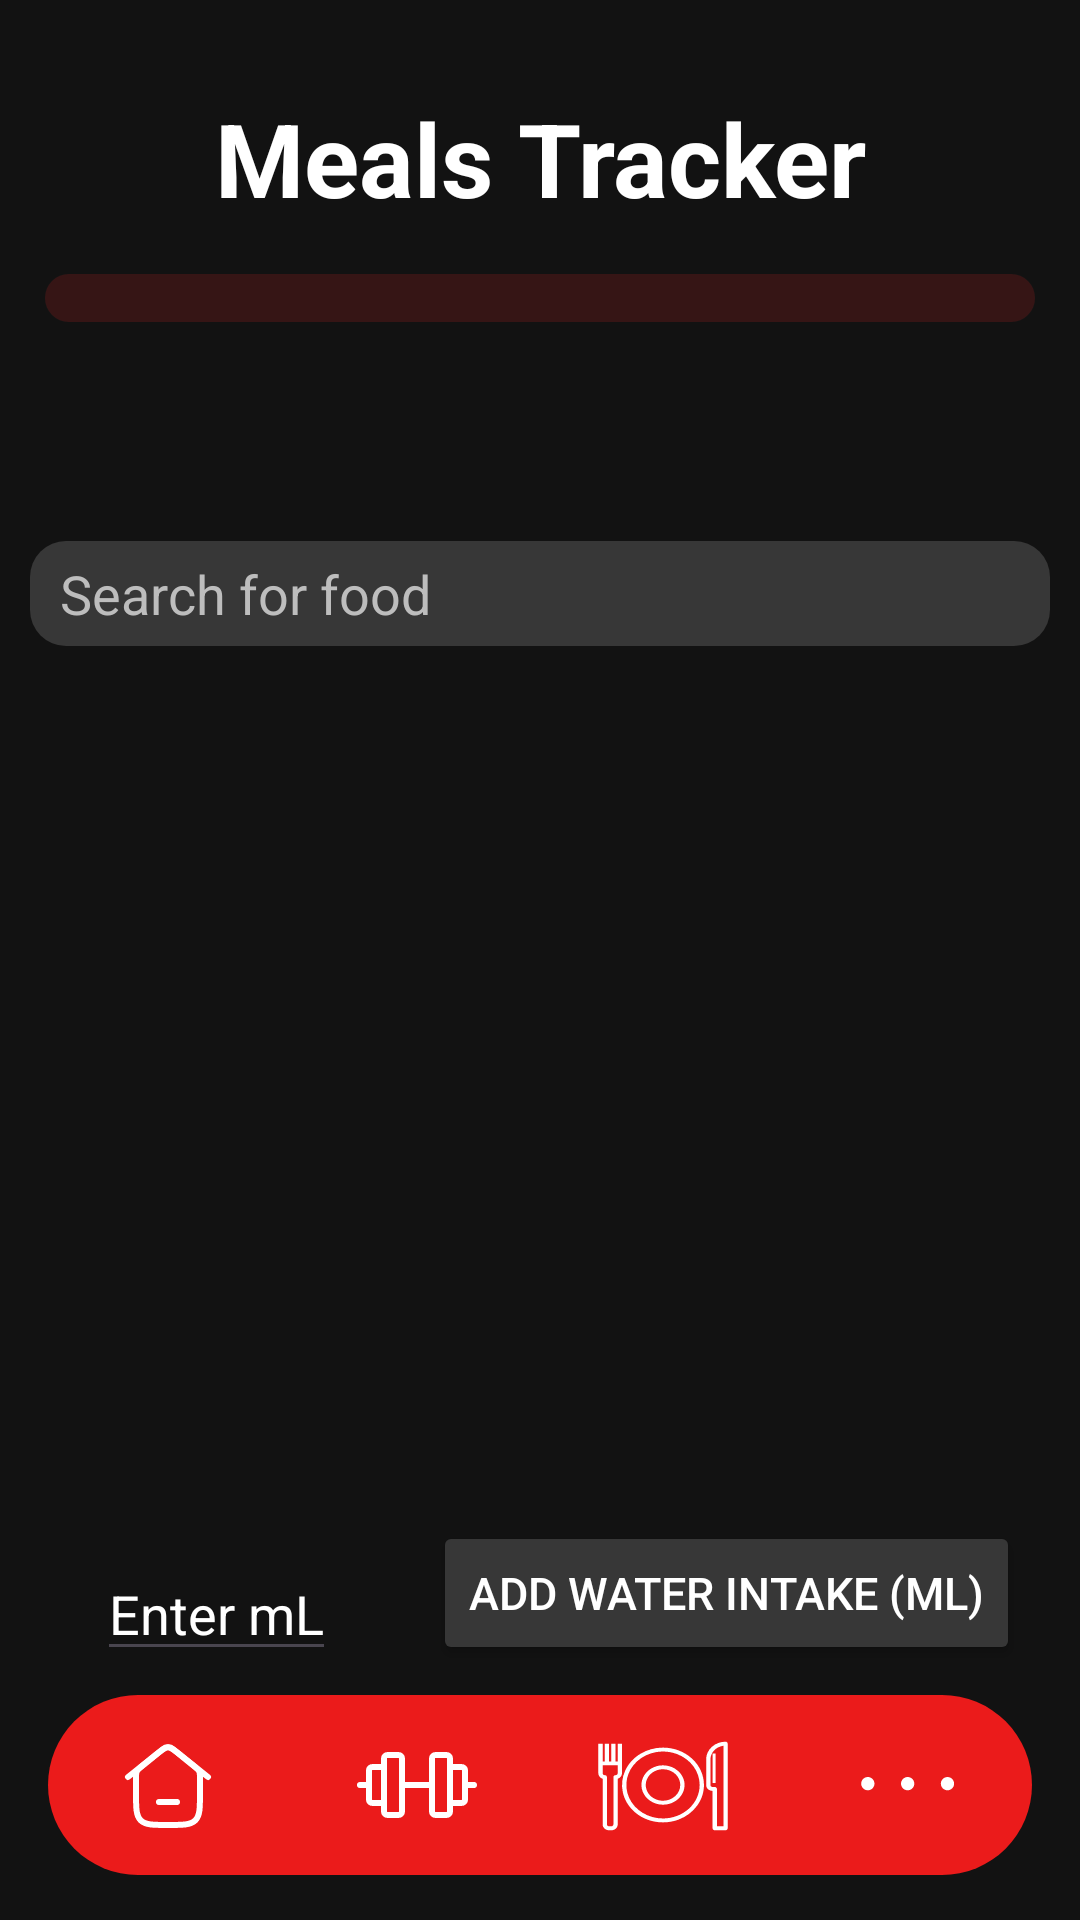

Where to tap for icons on this 1080px x 1920px app screen, as (x,y):
fitness: (417,1785)
food: (663,1786)
Home: (168,1786)
